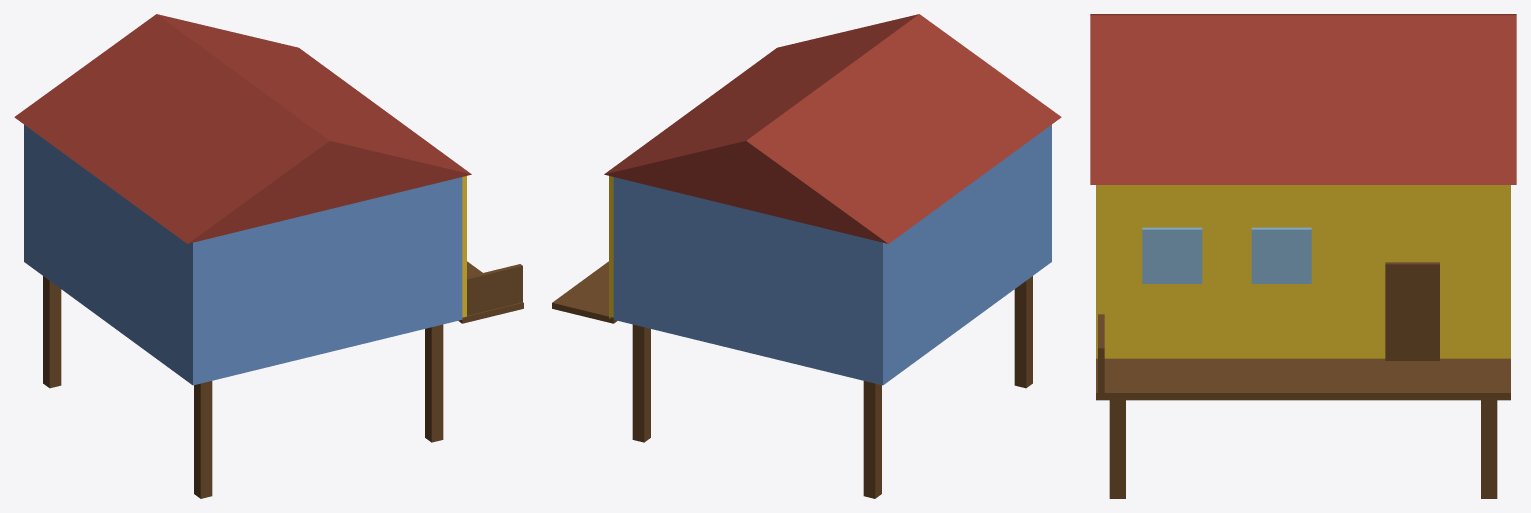
The model's file is casa_cerro.obj.
3 renders of one model, left to right at view 1: azimuth 30°, elevation 25°; view 2: azimuth 150°, elevation 25°; view 3: azimuth 270°, elevation 25°, orthographic. The views are drawn at different scales.
Parts seen in each view (by area): view 1: casa_cerro; view 2: casa_cerro; view 3: casa_cerro.
Part boxes in pixels (x1=…): casa_cerro: x1=14, y1=14, x2=523, y2=498; casa_cerro: x1=552, y1=14, x2=1061, y2=498; casa_cerro: x1=1090, y1=14, x2=1516, y2=498.
Bounding box in the file's own units: 8.8 × 8.3 × 7.8.
